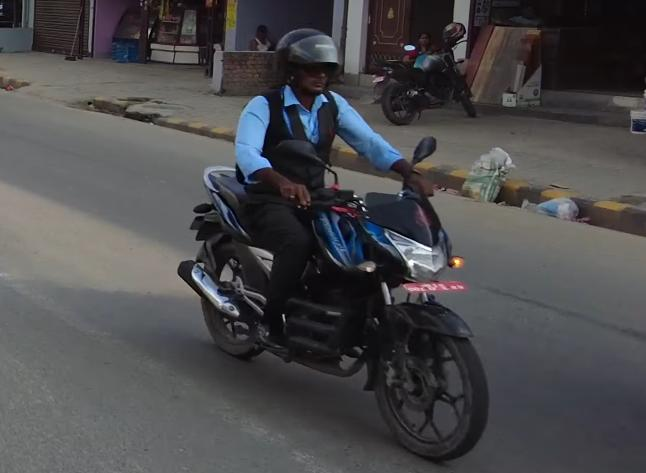bike: (179, 125, 491, 459)
